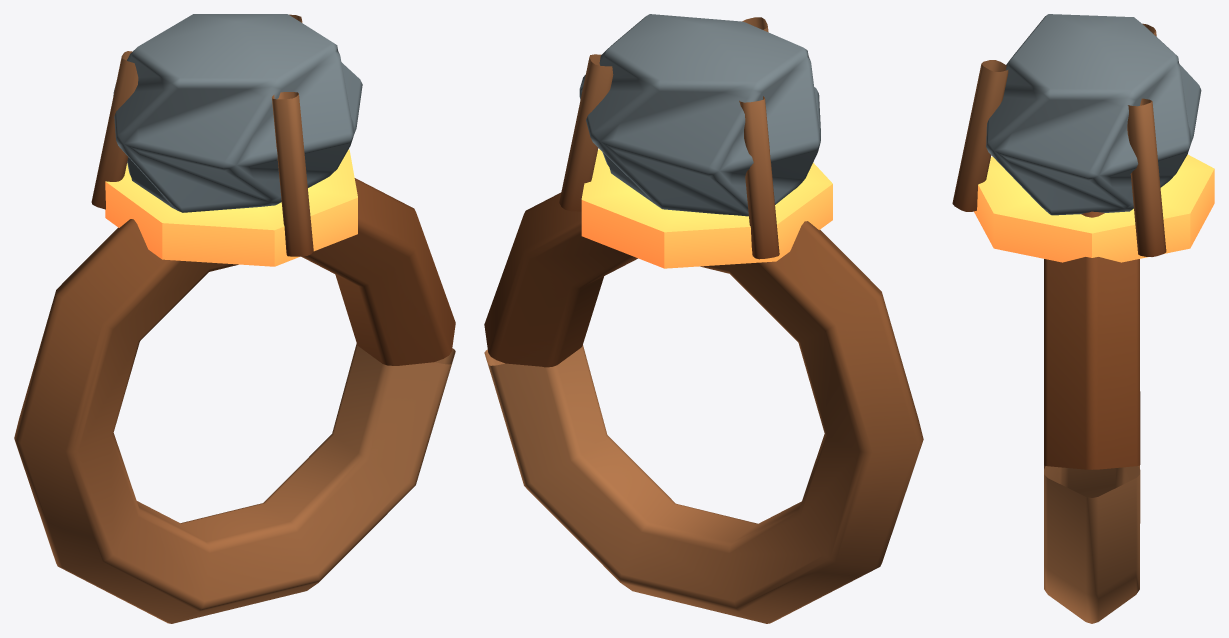
The model's file is lg_hearthstone_loop.glb.
The picture shows the model from 3 angles, left to right: view 1: azimuth 30°, elevation 25°; view 2: azimuth 150°, elevation 25°; view 3: azimuth 270°, elevation 25°; orthographic projection. The views are drawn at different scales.
Parts seen in each view (by area): view 1: lg_hearthstone_loop, lg_hearthstone_loop_glow; view 2: lg_hearthstone_loop, lg_hearthstone_loop_glow; view 3: lg_hearthstone_loop, lg_hearthstone_loop_glow.
Part boxes in pixels (x1,y1,x2,y2): lg_hearthstone_loop: (14, 14, 455, 623); lg_hearthstone_loop_glow: (105, 149, 357, 266); lg_hearthstone_loop: (484, 14, 923, 623); lg_hearthstone_loop_glow: (581, 149, 832, 268); lg_hearthstone_loop: (952, 14, 1201, 623); lg_hearthstone_loop_glow: (974, 154, 1214, 262).
Size of the model in its own units: 0.5019 by 0.6399 by 0.2712.
